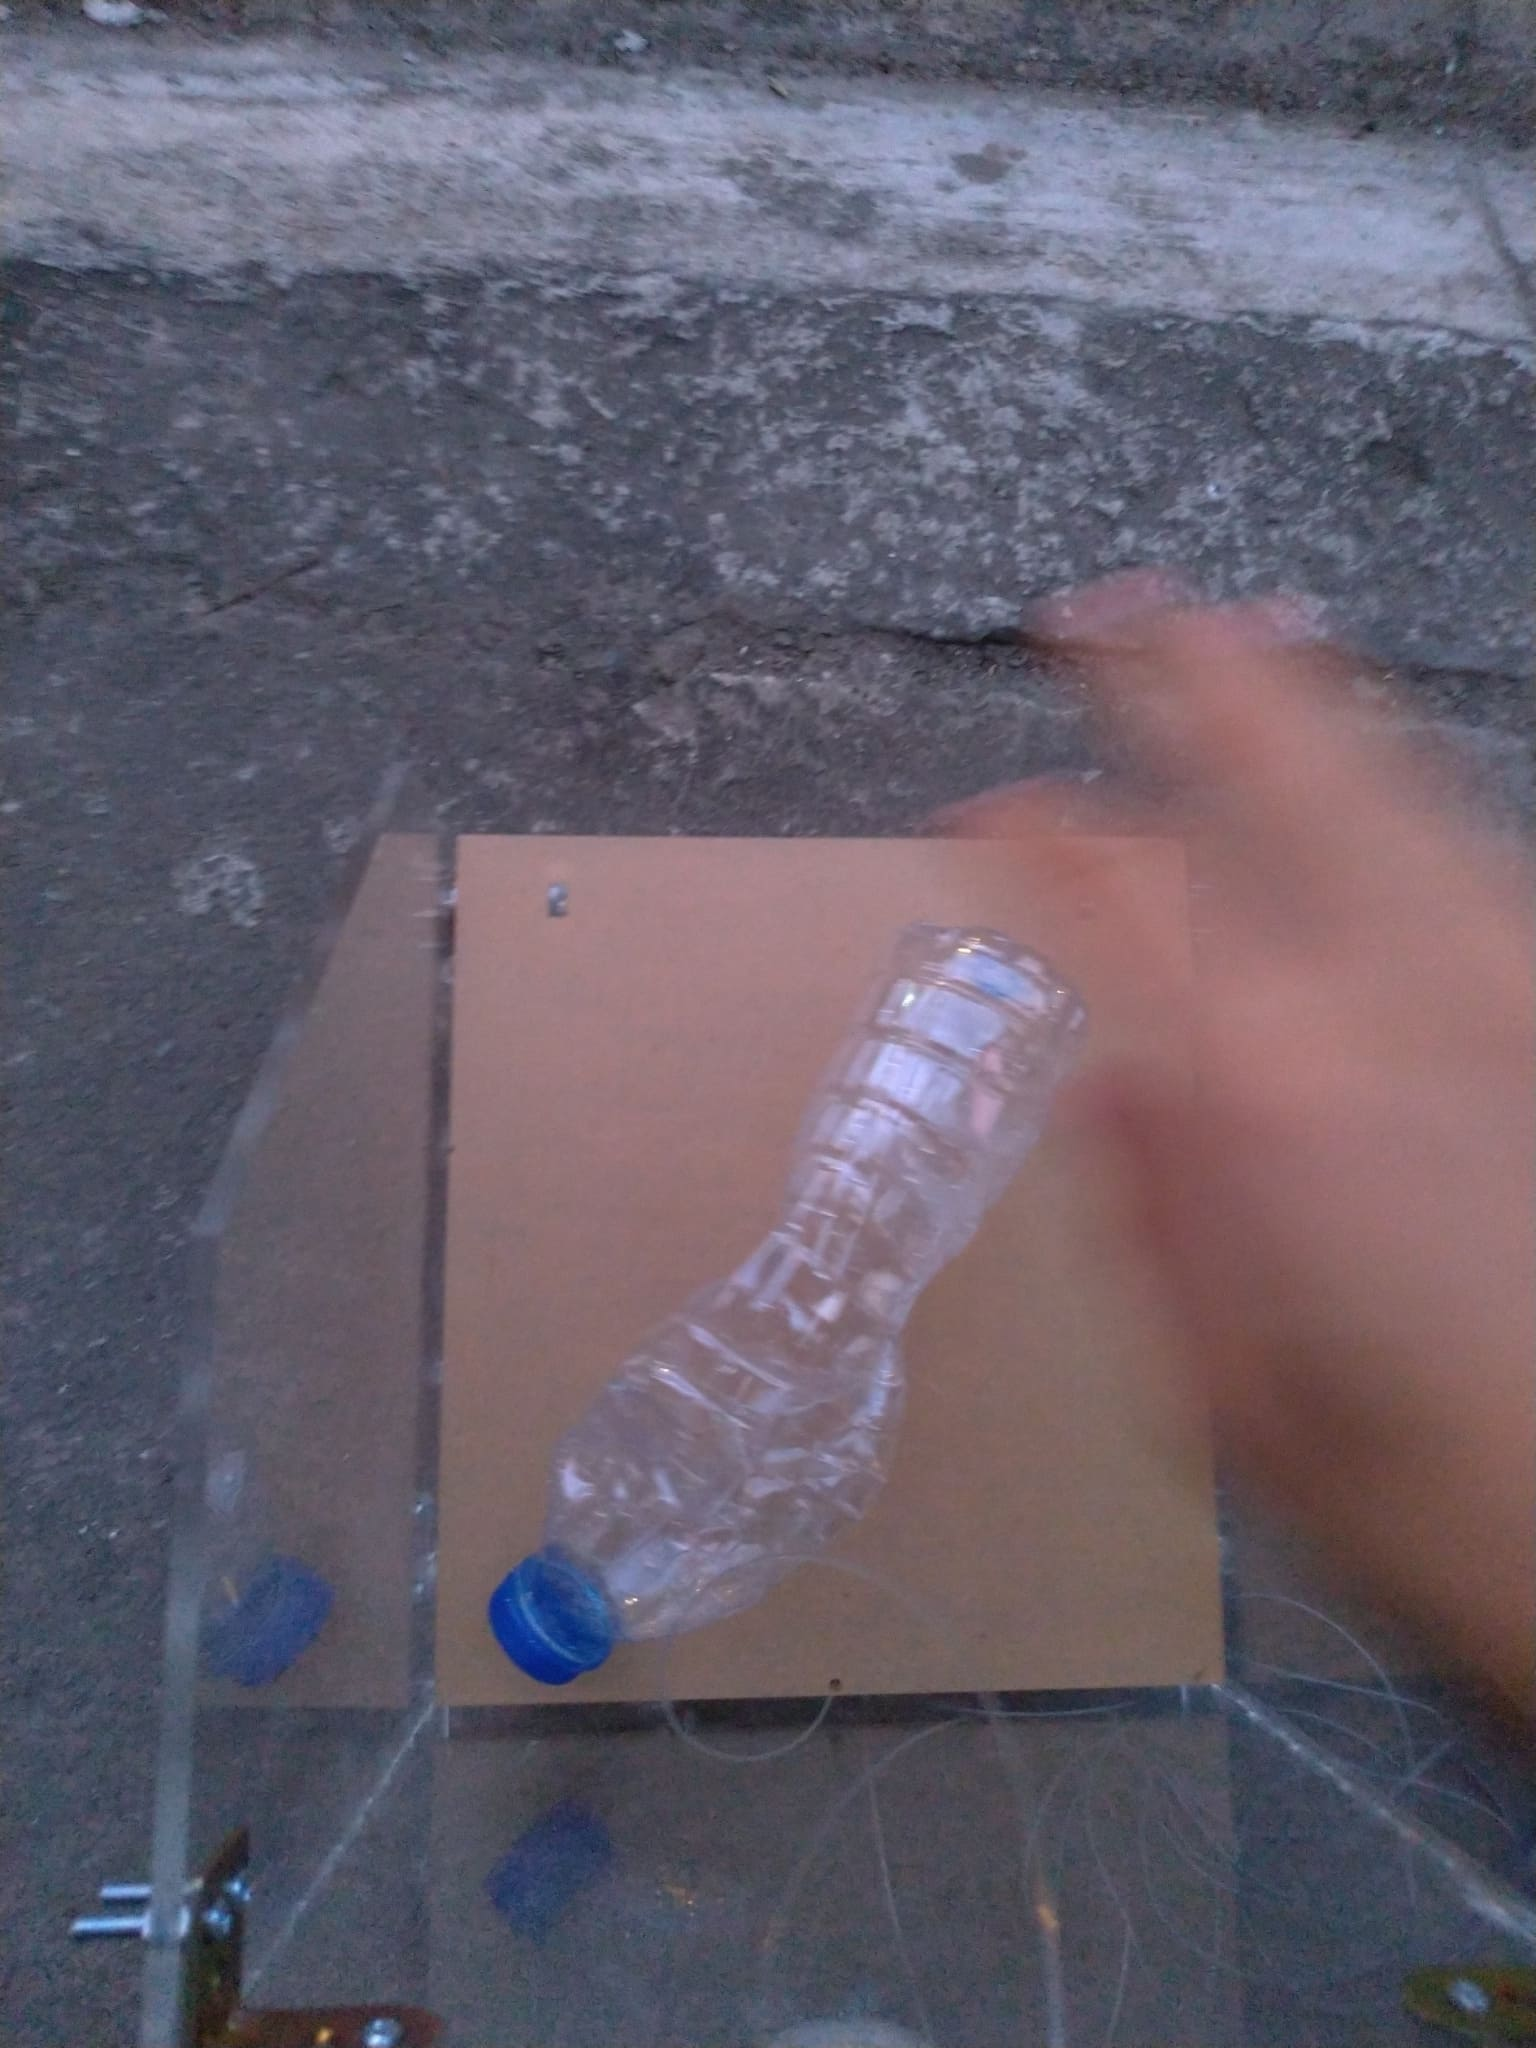PlasticBottle: (479, 913, 1060, 1700)
